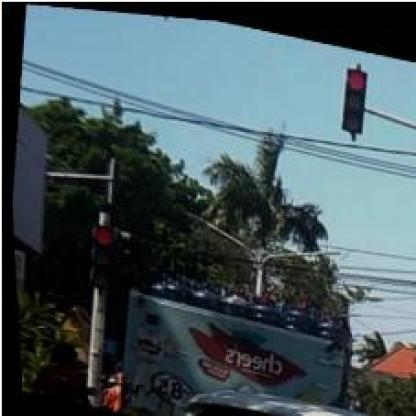red: (80, 220, 113, 288), (336, 57, 368, 126)
